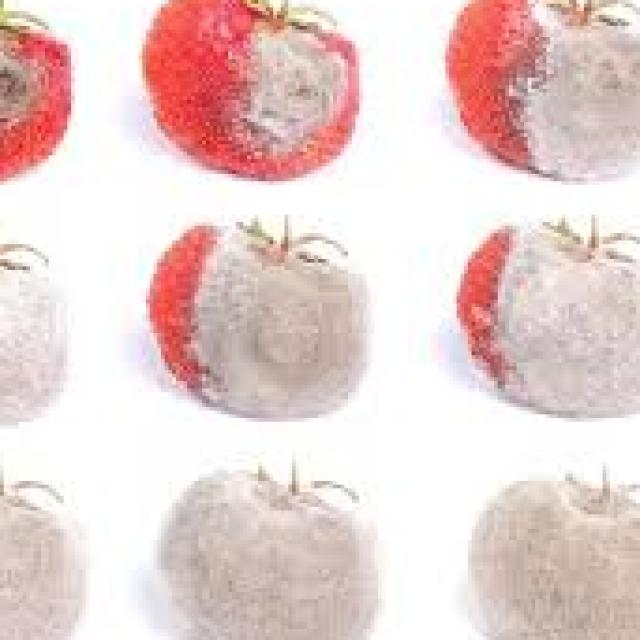inorganic: (140, 208, 418, 445), (5, 29, 83, 624), (444, 206, 631, 444), (144, 462, 407, 624), (428, 26, 640, 181), (131, 33, 370, 164)
